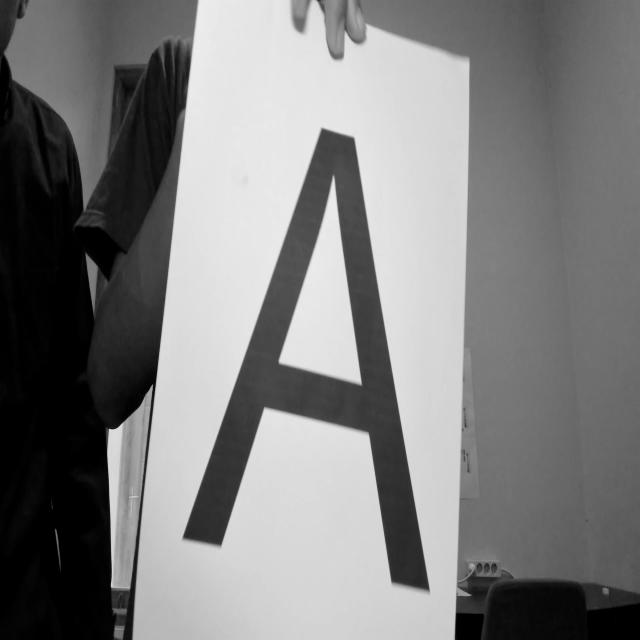a: (172, 100, 448, 620)
